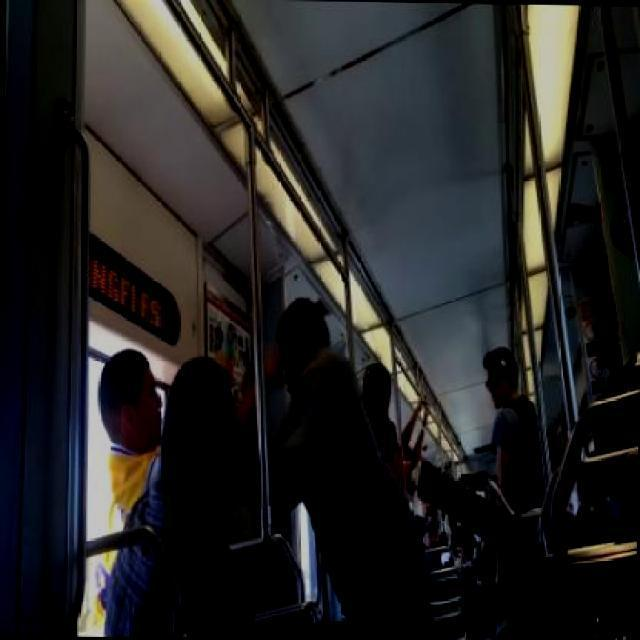fight: (96, 294, 412, 638)
non-fight: (480, 342, 556, 504)
